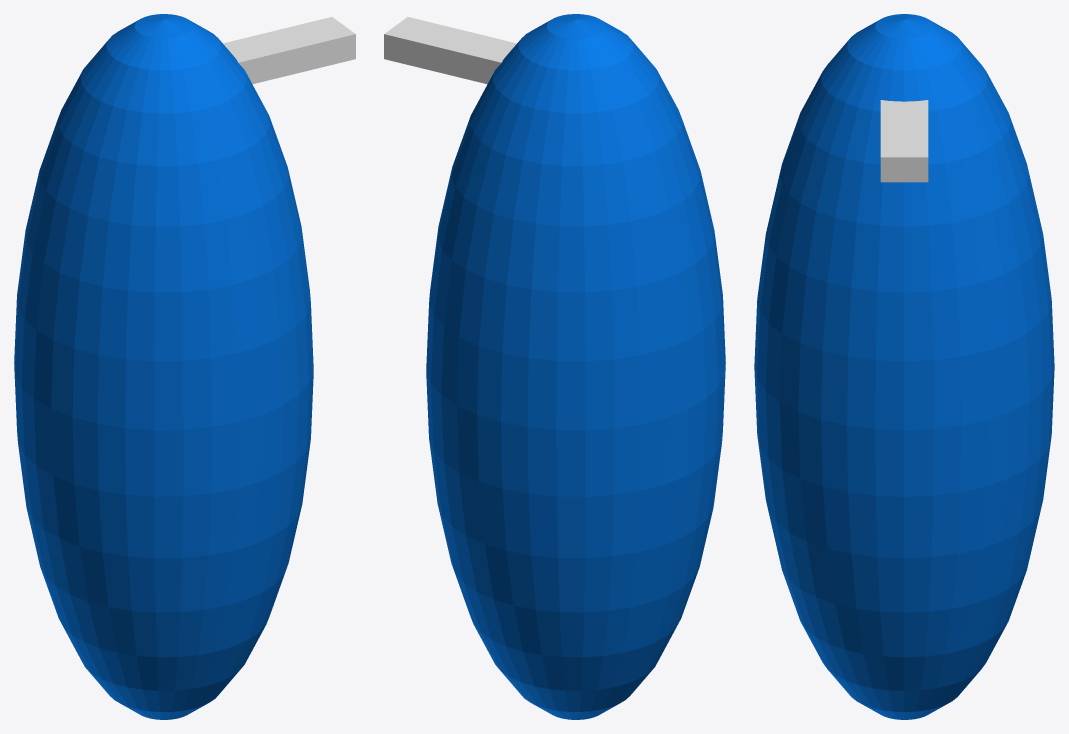
File: bean.gltf
The picture shows the model from 3 angles, left to right: view 1: azimuth 30°, elevation 25°; view 2: azimuth 150°, elevation 25°; view 3: azimuth 270°, elevation 25°; orthographic projection.
Visible parts, largest first — view 1: Sphere, Cube; view 2: Sphere, Cube; view 3: Sphere, Cube.
Part boxes in pixels (box(x1,y1,x2,y2)): Sphere: box(14, 14, 313, 719); Cube: box(223, 17, 355, 84); Sphere: box(426, 14, 725, 719); Cube: box(384, 17, 516, 84); Sphere: box(754, 14, 1054, 719); Cube: box(880, 100, 928, 182).
Size of the model in its own units: 2.38 by 5.1 by 2.
